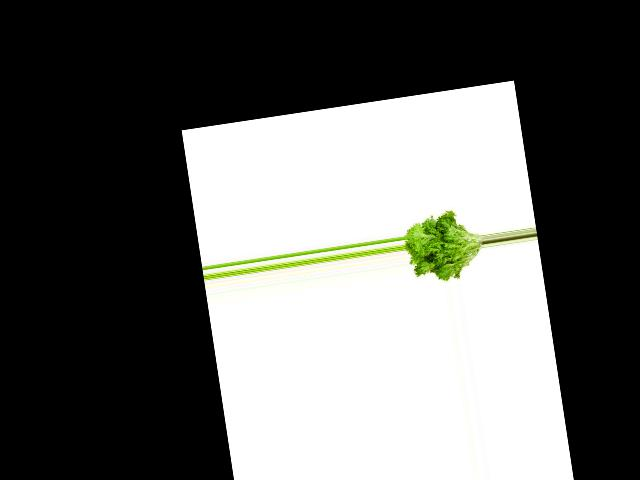lettuce: (401, 205, 489, 289)
